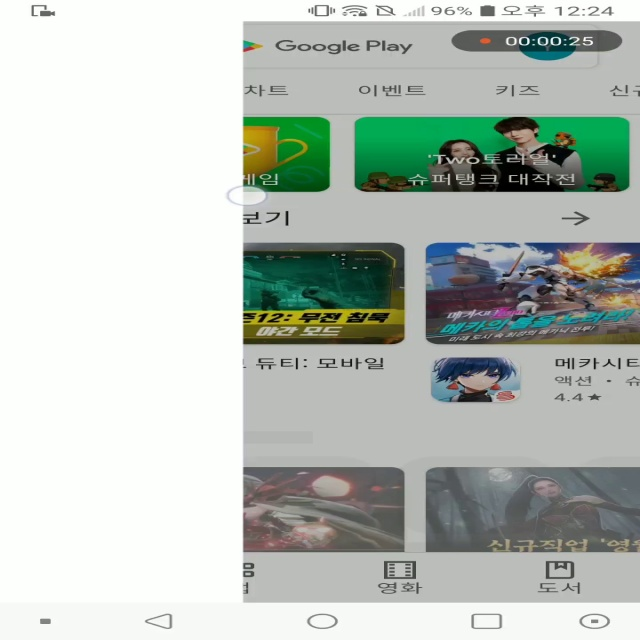Cursor: (225, 185, 270, 208)
